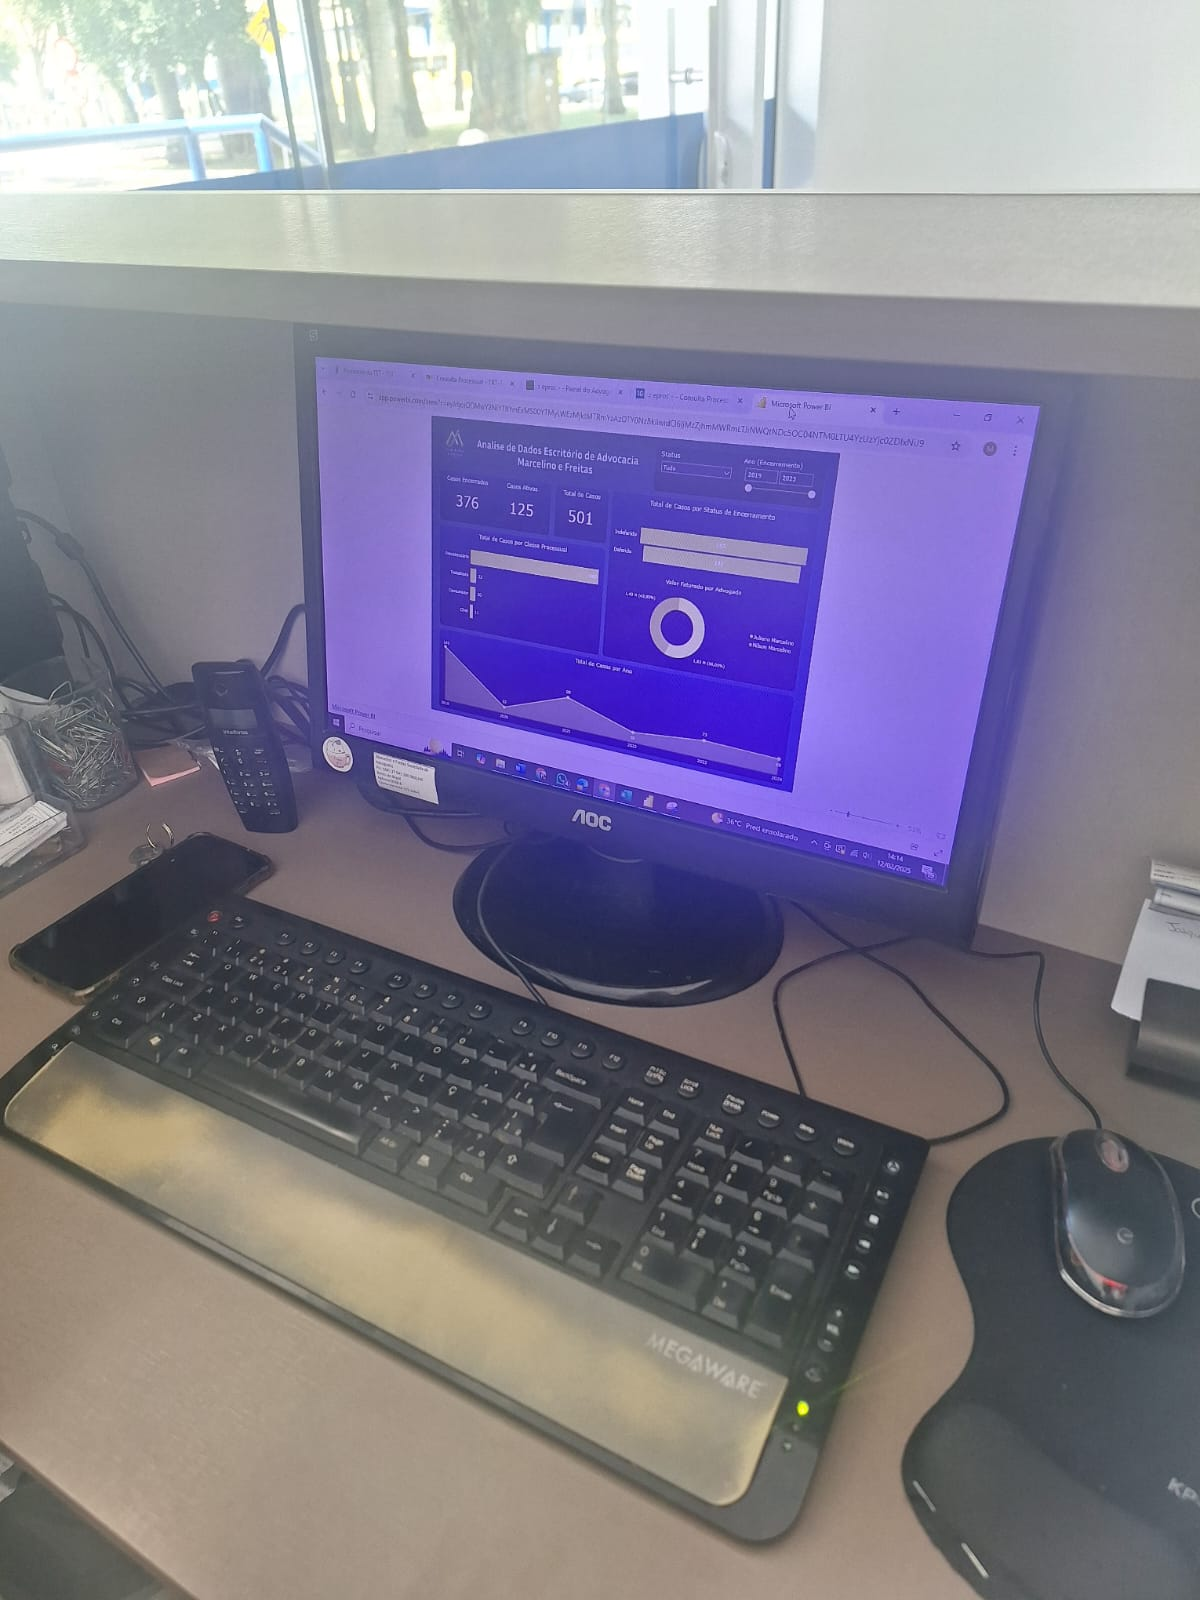

Layout of this report page (visuals, bound fields, positions):
{"tool":"powerbi","page":{"name":"Página 1","canvas":[1500,1090],"ordinal":0},"visuals":[{"type":"card","title":"Casos Encerrados","fields":{"Values":["Medidas.Casos Encerrados"]},"box":[41.6,190.4,232,144.5],"z":0},{"type":"card","title":"Casos Ativos","fields":{"Values":["Medidas.Casos Ativos"]},"box":[273.6,190.4,227.6,144.5],"z":1000},{"type":"card","title":"Total de Casos","fields":{"Values":["Medidas.Casos Totais"]},"box":[529.7,190.4,197,144.5],"z":2000},{"type":"funnel","title":"Total de Casos por Status de Encerramento","fields":{"Category":["Dados.Status de Encerramento"],"Y":["CountNonNull(Dados.ID do Caso)"]},"box":[757.3,190.4,693.8,271.4],"z":3000},{"type":"donutChart","fields":{"Category":["Dados.Advogado Responsável"],"Y":["Medidas.Valor Faturado"]},"box":[757.3,437.8,693.8,297.7],"z":4000},{"type":"clusteredBarChart","title":"Total de Casos por Classe Processual","fields":{"Category":["Dados.Classe"],"Y":["Medidas.Casos Totais"]},"box":[41.6,380.8,709.2,348],"z":5000},{"type":"areaChart","title":"Total de Casos por Ano","fields":{"Category":["Calendario.dt_data.Variation.Hierarquia de datas.Ano"],"Y":["Medidas.Casos Totais"]},"box":[41.6,763.9,1422.7,302],"z":6000},{"type":"slicer","title":"Status","fields":{"Values":["Dados.Status de Encerramento"]},"box":[908.3,35,262.7,91.9],"z":6001},{"type":"slicer","title":"Ano (Encerramento)","fields":{"Values":["Dados.Data de Encerramento.Variation.Hierarquia de datas.Ano"]},"box":[1195.1,32.8,256.1,118.2],"z":6002}]}

Visuals, with their boxes on the page's 1500x1090 design canvas (x1, y1, x2, y2). These are canvas units, not pixel positions in the 1200x1600 screenshot, which may show the page scaled, cropped or inside an application window:
"Casos Encerrados" card: box=[42, 190, 274, 335]
"Casos Ativos" card: box=[274, 190, 501, 335]
"Total de Casos" card: box=[530, 190, 727, 335]
"Total de Casos por Status de Encerramento" funnel: box=[757, 190, 1451, 462]
donutChart - Dados.Advogado Responsável x Medidas.Valor Faturado: box=[757, 438, 1451, 736]
"Total de Casos por Classe Processual" clusteredBarChart: box=[42, 381, 751, 729]
"Total de Casos por Ano" areaChart: box=[42, 764, 1464, 1066]
"Status" slicer: box=[908, 35, 1171, 127]
"Ano (Encerramento)" slicer: box=[1195, 33, 1451, 151]
